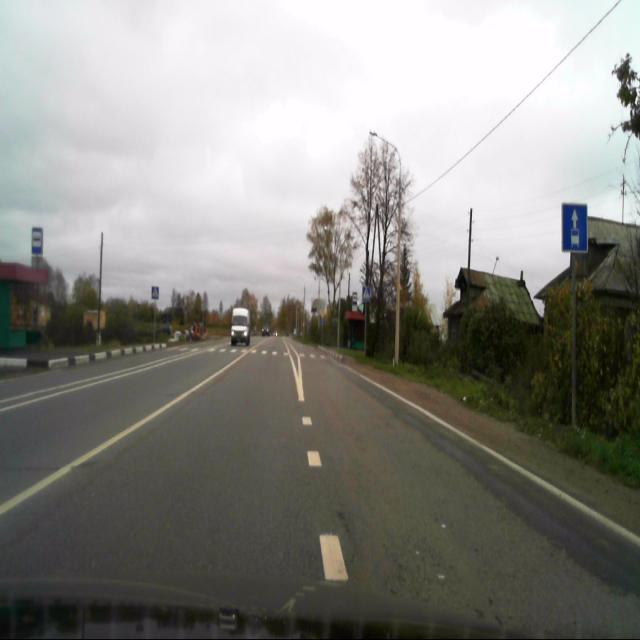road sign: (560, 200, 588, 255), (32, 228, 42, 255)
